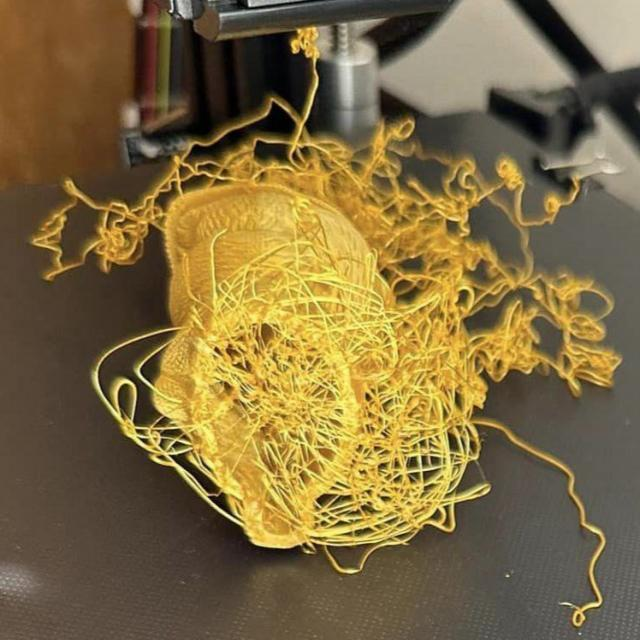spaghetti: (319, 355, 465, 513), (489, 268, 621, 392), (323, 126, 463, 218), (370, 243, 484, 349), (244, 324, 332, 455), (116, 374, 216, 468), (41, 192, 143, 282), (501, 163, 550, 269), (175, 147, 277, 194)
